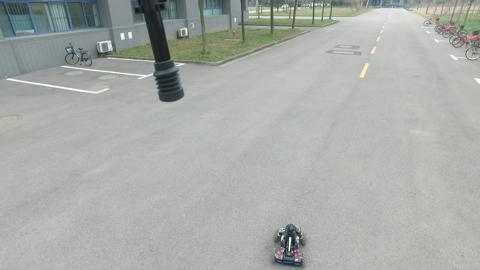chariot: (261, 224, 308, 268)
